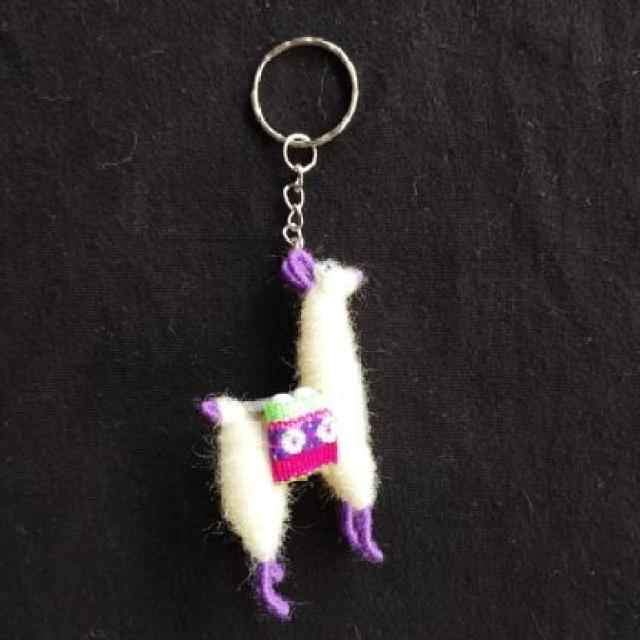Llavero: (197, 248, 386, 622)
